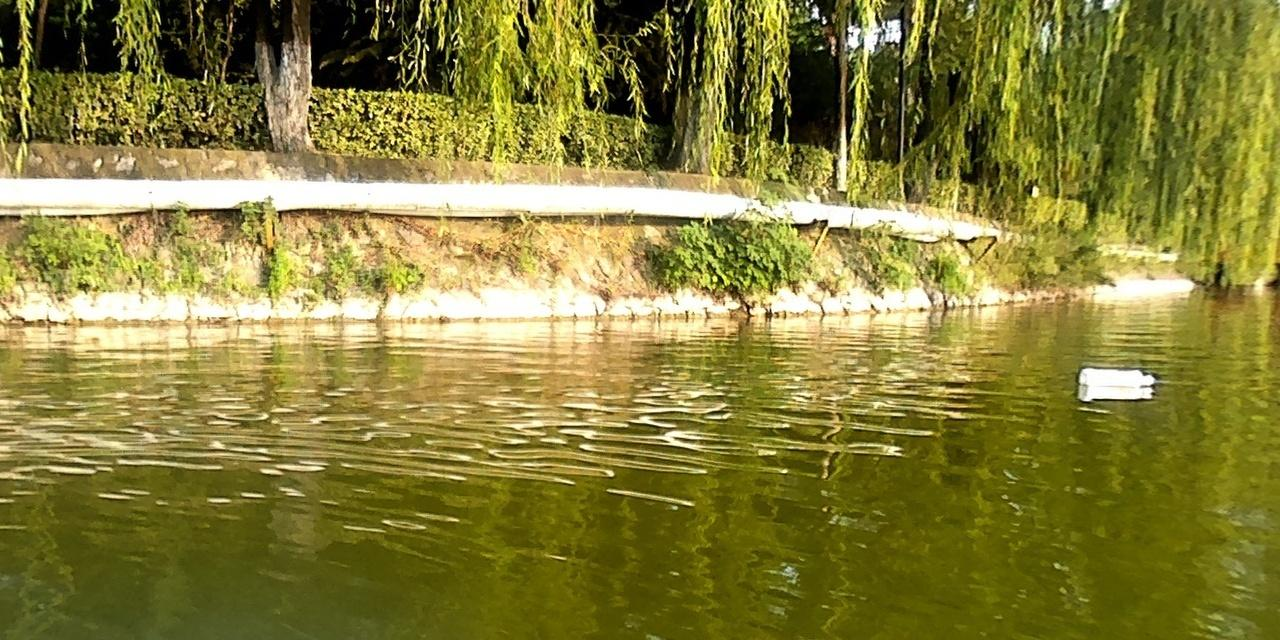bottle: (1075, 361, 1155, 388)
